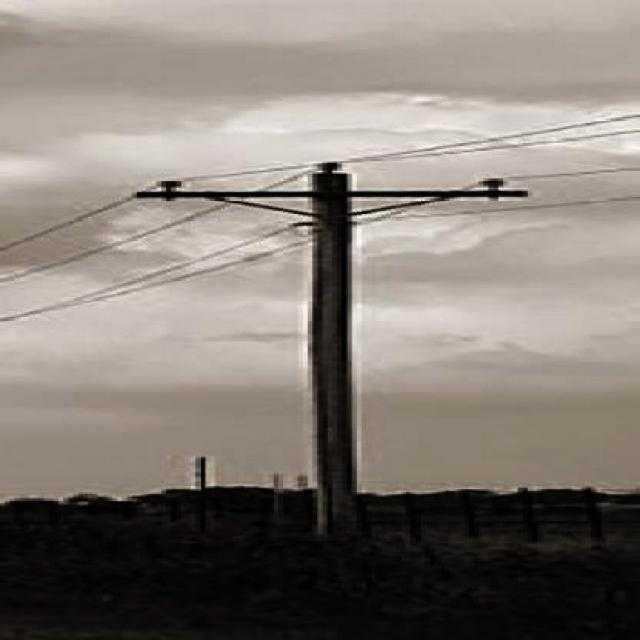crossarm: (135, 188, 530, 199)
pole: (303, 169, 365, 551)
wire: (0, 111, 640, 285), (0, 168, 640, 324)
